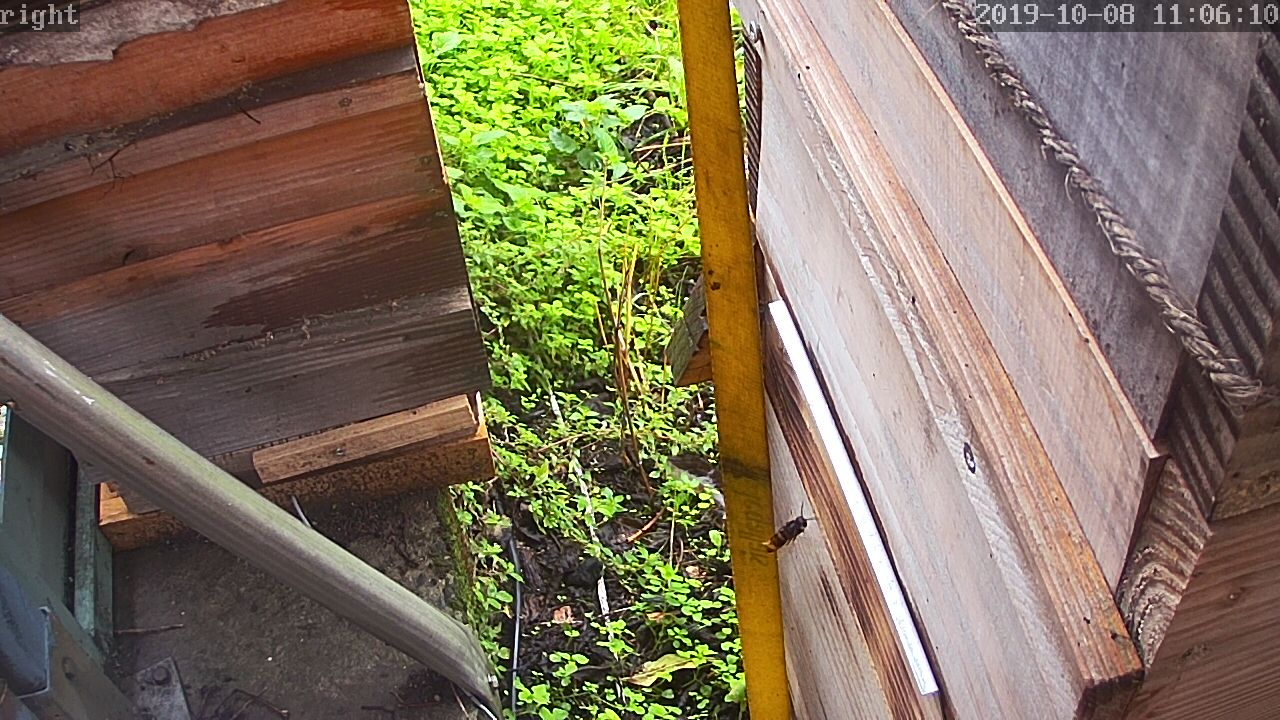hornet: (761, 511, 815, 558)
